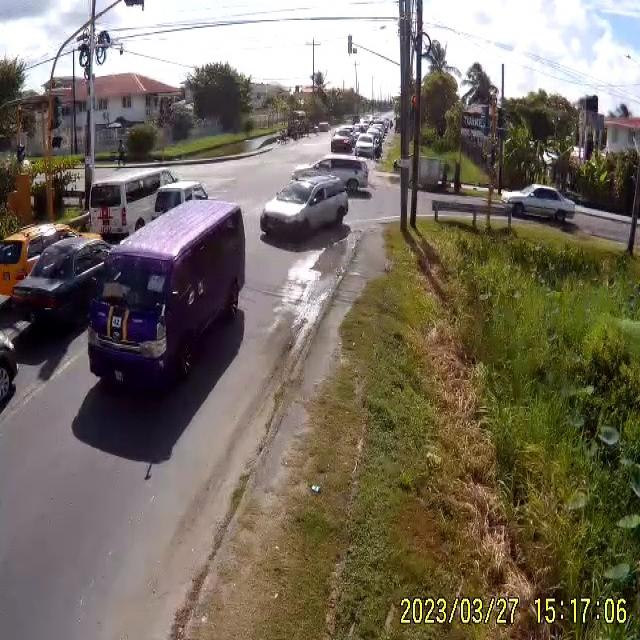car: (85, 202, 244, 393), (3, 235, 115, 340), (91, 168, 184, 236), (260, 178, 350, 246), (505, 185, 579, 222), (308, 155, 372, 195), (330, 131, 356, 154), (356, 134, 379, 158)
